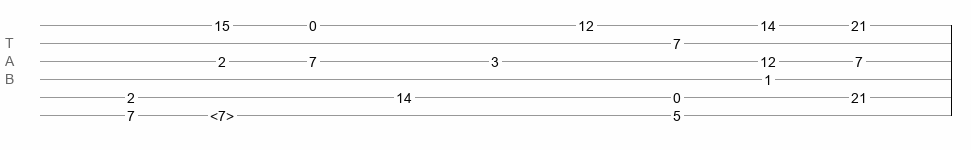0: (309, 18, 317, 28), (673, 90, 681, 100)
1: (764, 72, 772, 82)
12: (578, 18, 594, 28), (760, 54, 776, 64)
14: (396, 90, 412, 100), (760, 18, 776, 28)
15: (214, 18, 230, 28)
2: (127, 90, 135, 100), (218, 54, 226, 64)
21: (851, 18, 867, 28), (851, 90, 867, 100)
3: (491, 54, 499, 64)
5: (673, 108, 681, 118)
7: (127, 108, 135, 118), (309, 54, 317, 64), (673, 36, 681, 46), (855, 54, 863, 64)
harmonic: (210, 108, 234, 118)
